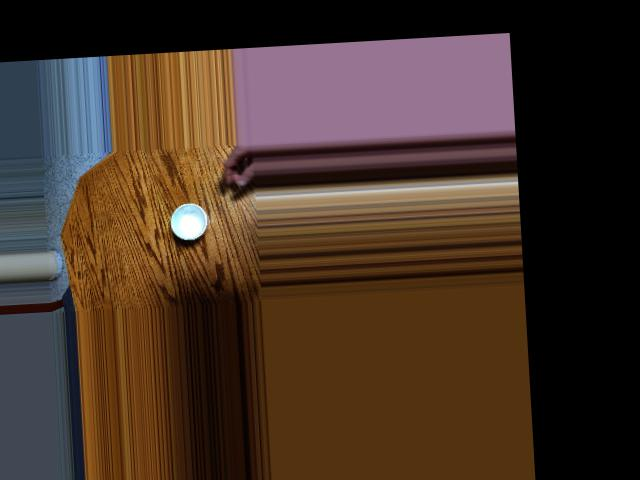cotage: (166, 198, 215, 241)
